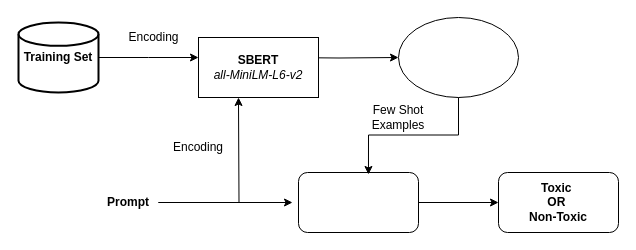
This 636x250 diagram has some shape labels left out. The box of each missing label's shape, as (x1, y1, x2, y2) in pixels:
Alignment (Similarity): (398, 16, 518, 98)
Model (LLM): (298, 172, 418, 232)
